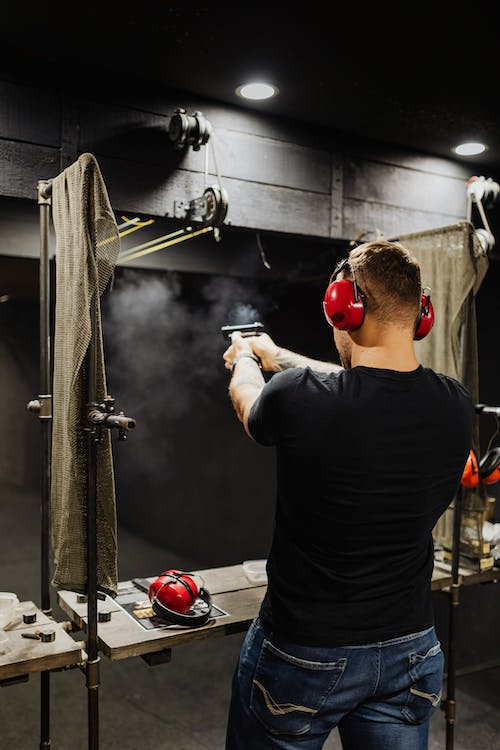gun: (218, 316, 270, 343)
